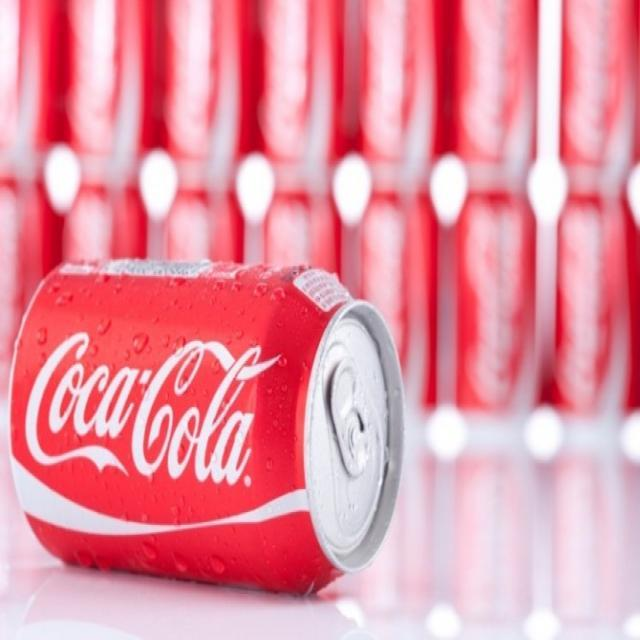coca-cola: (8, 258, 408, 610)
